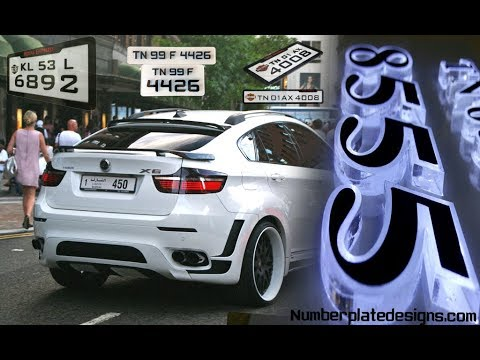number_plate: (4, 37, 100, 111), (139, 64, 206, 96), (125, 44, 216, 64), (77, 170, 138, 194), (241, 89, 326, 105)
